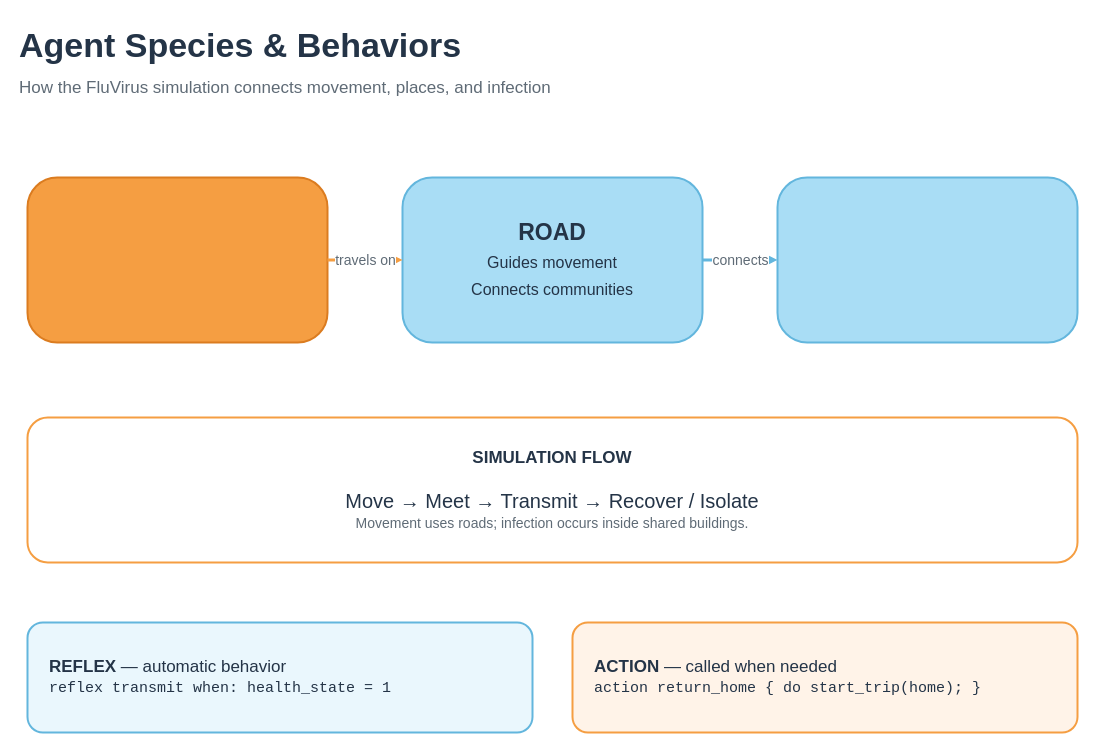
This 1095x750 diagram has some shape labels left out. The shapes that lost their labels are listed below. From the top down, each one's box as (x1, y1, x2, y2) in pixels, then its label:
(26, 176, 328, 343): PERSON Moves • Transmits Recovers • Isolates
(776, 176, 1078, 343): BUILDING Home • Workplace School
